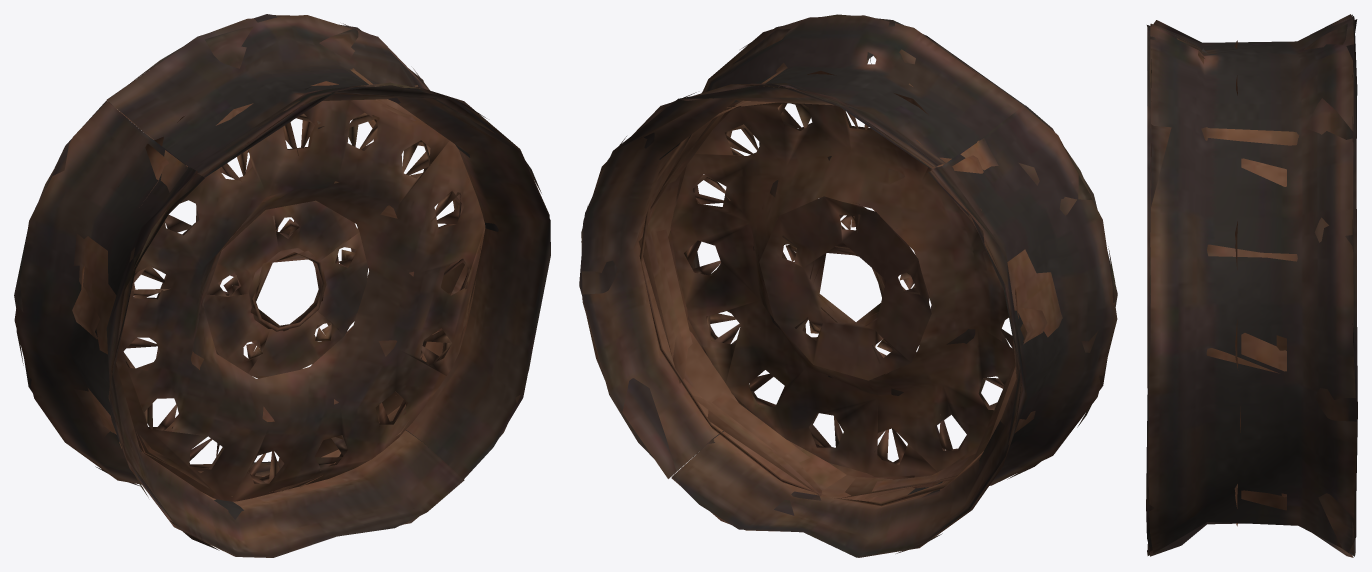
The model's file is wheel_rim.glb.
3 views of the same model, side by side, from view 1: azimuth 30°, elevation 25°; view 2: azimuth 150°, elevation 25°; view 3: azimuth 270°, elevation 25° (orthographic). The views are drawn at different scales.
Parts seen in each view (by area): view 1: wheel_rim; view 2: wheel_rim; view 3: wheel_rim.
Part boxes in pixels (x1,y1,x2,y2): wheel_rim: [14, 14, 550, 557]; wheel_rim: [579, 14, 1117, 557]; wheel_rim: [1146, 14, 1357, 557].
Size of the model in its own units: 0.5588 by 0.5503 by 0.2167.
1 material, 1 textured.
